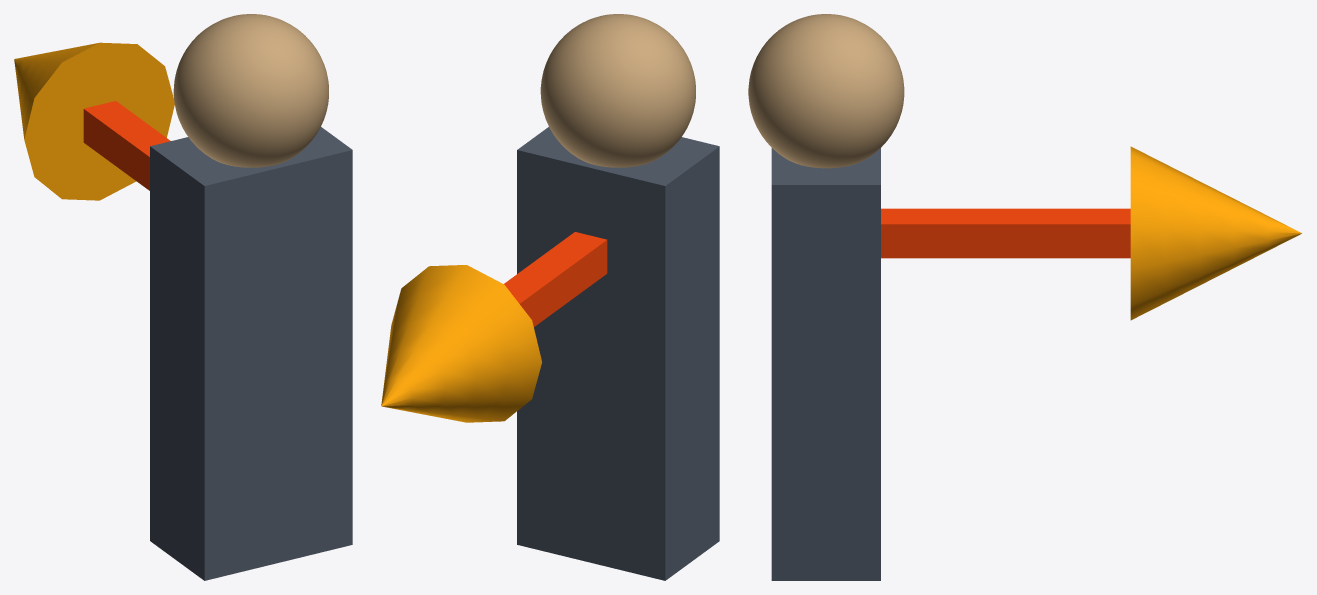
File: human_spawn.glb
The picture shows the model from 3 angles, left to right: view 1: azimuth 30°, elevation 25°; view 2: azimuth 150°, elevation 25°; view 3: azimuth 270°, elevation 25°; orthographic projection.
Parts seen in each view (by area): view 1: Body, Head, ForwardArrowHead, ForwardShaft; view 2: Body, ForwardArrowHead, Head, ForwardShaft; view 3: Body, Head, ForwardArrowHead, ForwardShaft.
Boxes of the visible parts, <box> form: Body: <box>150,127,352,580</box>; Head: <box>173,14,328,167</box>; ForwardArrowHead: <box>14,42,174,200</box>; ForwardShaft: <box>83,101,170,190</box>; Body: <box>517,127,719,580</box>; ForwardArrowHead: <box>381,265,541,422</box>; Head: <box>540,14,695,167</box>; ForwardShaft: <box>504,232,607,326</box>; Body: <box>771,148,880,580</box>; Head: <box>748,14,904,168</box>; ForwardArrowHead: <box>1130,146,1301,320</box>; ForwardShaft: <box>881,208,1130,258</box>.
Size of the model in its own units: 0.56 by 1.85 by 1.77.
4 materials, 4 textured.
